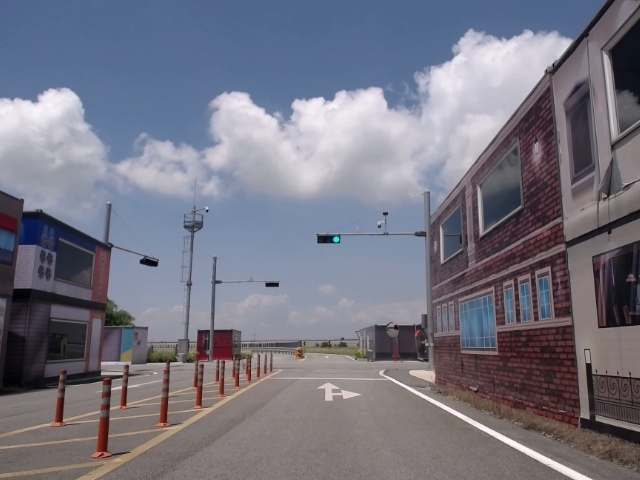green_3: (317, 235, 340, 244)
